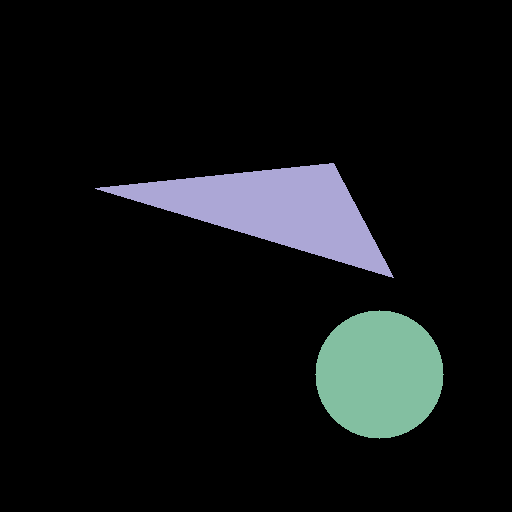circle: (315, 310, 443, 438)
triangle: (95, 163, 393, 277)
